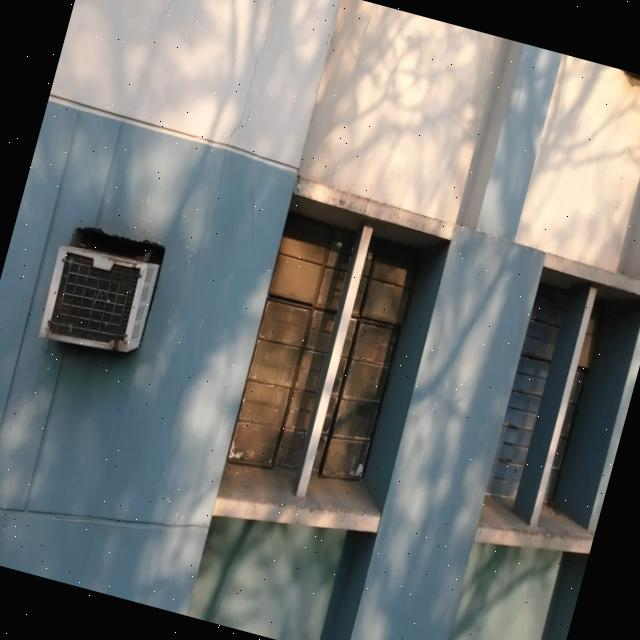crack: (229, 0, 275, 143), (185, 147, 226, 302), (259, 220, 283, 268), (250, 187, 258, 252)
